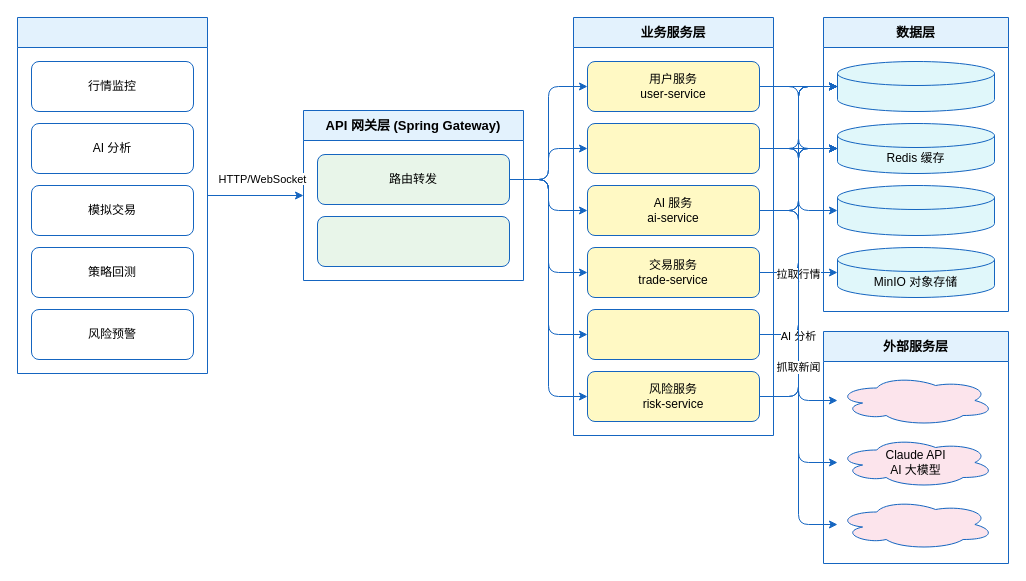
Image size: 1026x581. Some labels were removed from this diagram. The box of each missing label's shape, as (x1, y1, x2, y2) in pixels:
Kafka 消息队列: (836, 184, 994, 236)
MySQL 关系型数据库: (836, 60, 994, 112)
前端层 (Vue 3): (16, 16, 208, 374)
回测服务 backtest-service: (586, 308, 760, 360)
新闻 API 财经新闻: (836, 498, 994, 550)
行情 API 新浪/东方财富: (836, 374, 994, 426)
行情服务 market-service: (586, 122, 760, 174)
鉴权限流: (316, 216, 510, 266)
